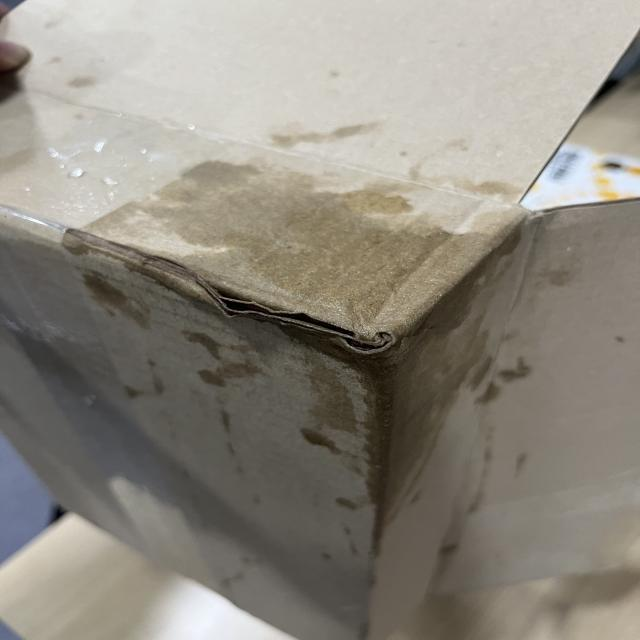wet: (144, 165, 503, 506)
